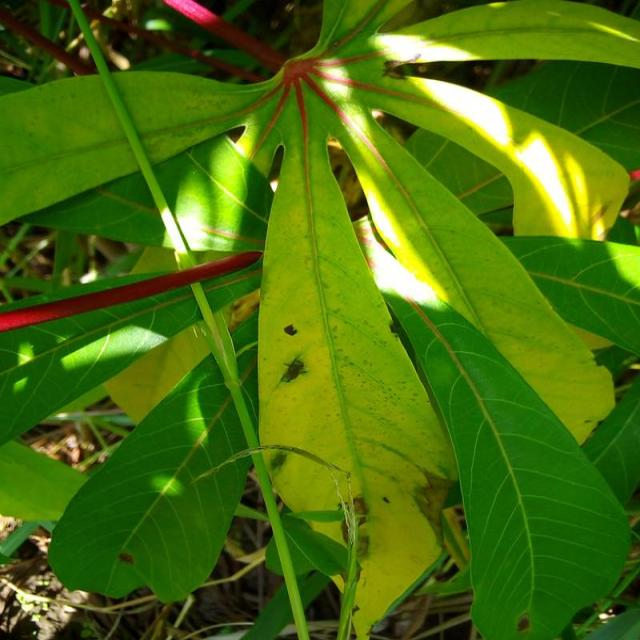cassava leaf: (0, 1, 638, 636), (254, 77, 458, 636), (377, 280, 632, 638), (45, 332, 258, 604)
